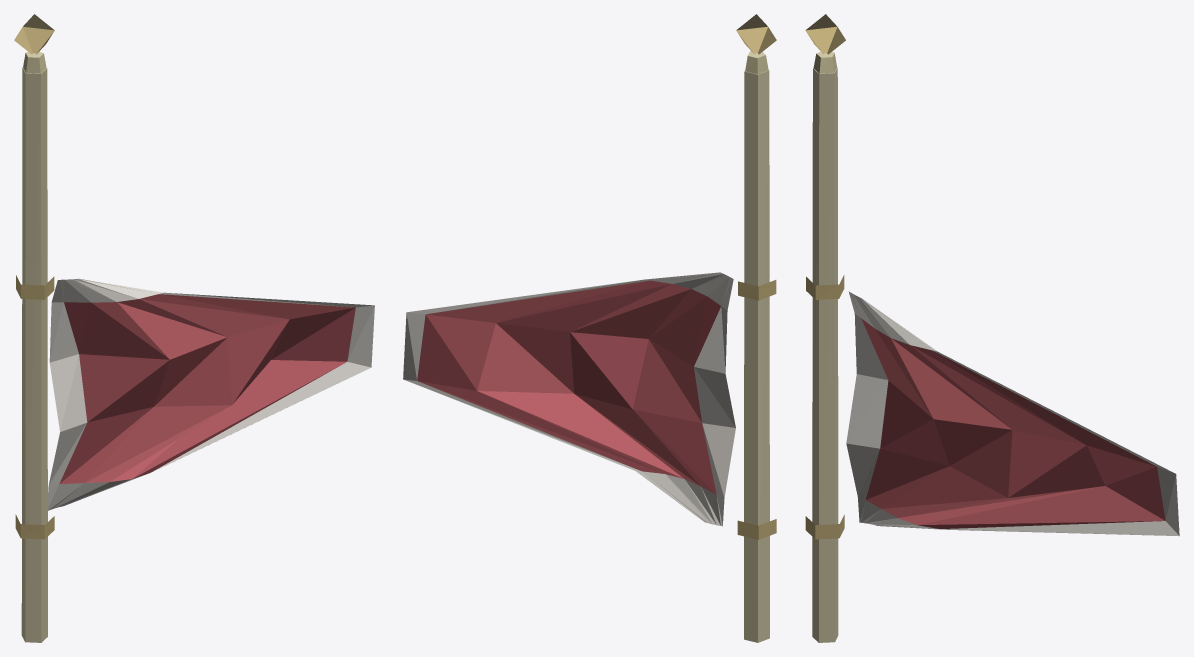
The model's file is flag.pennant.lingqi__pole.stick.mugun__midmast.glb.
3 renders of one model, left to right at view 1: azimuth 30°, elevation 25°; view 2: azimuth 150°, elevation 25°; view 3: azimuth 330°, elevation 25°, orthographic.
Visible parts, largest first — view 1: flag.pennant.lingqi; view 2: flag.pennant.lingqi; view 3: flag.pennant.lingqi.
Boxes of the visible parts, x1=… form: flag.pennant.lingqi: x1=14, y1=14, x2=374, y2=642; flag.pennant.lingqi: x1=403, y1=14, x2=776, y2=642; flag.pennant.lingqi: x1=805, y1=14, x2=1179, y2=642.
Size of the model in its own units: 1.28 by 2.08 by 0.2144.
